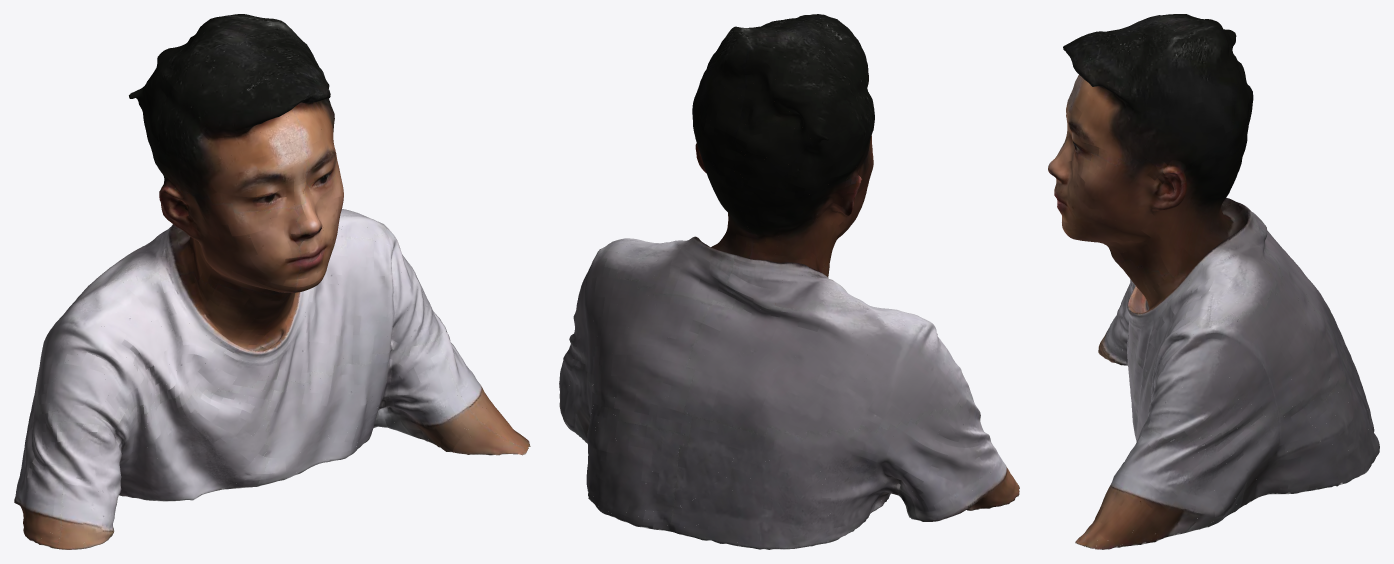
The model's file is 头像_带标注_白衣男青年01_opt.glb.
The picture shows the model from 3 angles, left to right: view 1: azimuth 30°, elevation 25°; view 2: azimuth 150°, elevation 25°; view 3: azimuth 270°, elevation 25°; orthographic projection. The views are drawn at different scales.
Parts seen in each view (by area): view 1: desdgg2defaultMat, desdgg2defaultMat_1; view 2: desdgg2defaultMat, desdgg2defaultMat_1; view 3: desdgg2defaultMat, desdgg2defaultMat_1.
Part boxes in pixels (x1,y1,x2,y2): desdgg2defaultMat: (14, 14, 530, 549); desdgg2defaultMat_1: (18, 15, 529, 544); desdgg2defaultMat: (559, 14, 1019, 549); desdgg2defaultMat_1: (561, 16, 1016, 543); desdgg2defaultMat: (1048, 14, 1379, 549); desdgg2defaultMat_1: (1062, 15, 1378, 547).
Size of the model in its own units: 0.3387 by 0.3 by 0.2175.
Materials: 1 (1 with a texture image).
